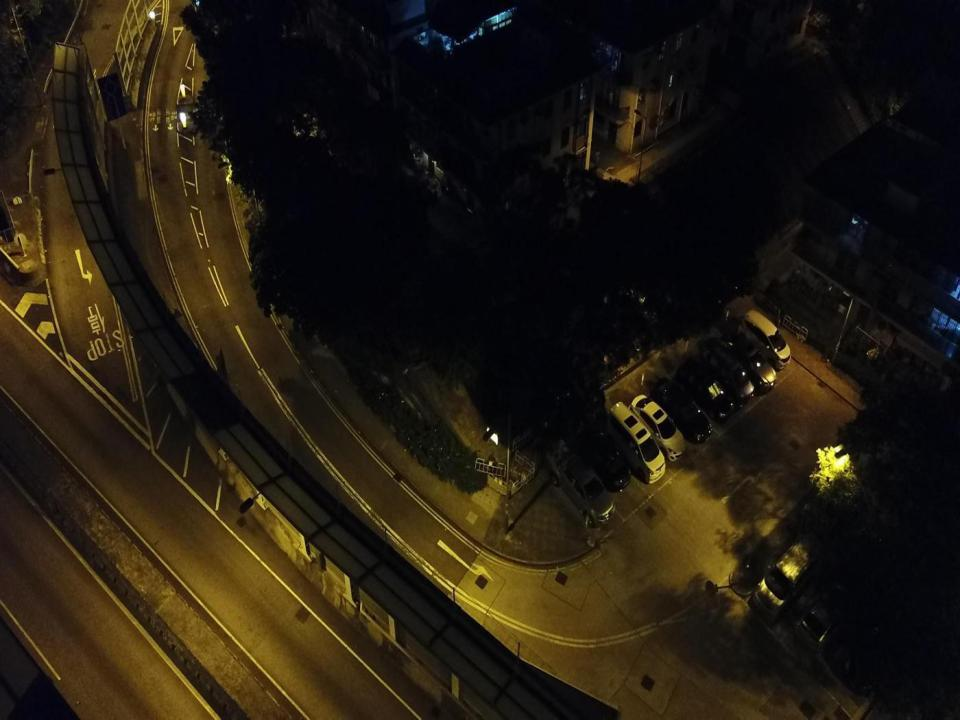car: (543, 443, 615, 527), (837, 607, 902, 696), (793, 578, 852, 654), (653, 376, 713, 445), (626, 394, 686, 461), (574, 423, 631, 493), (719, 327, 777, 392), (682, 356, 735, 423), (703, 339, 756, 405), (737, 309, 791, 370)
van: (751, 527, 823, 622), (606, 400, 666, 484)
